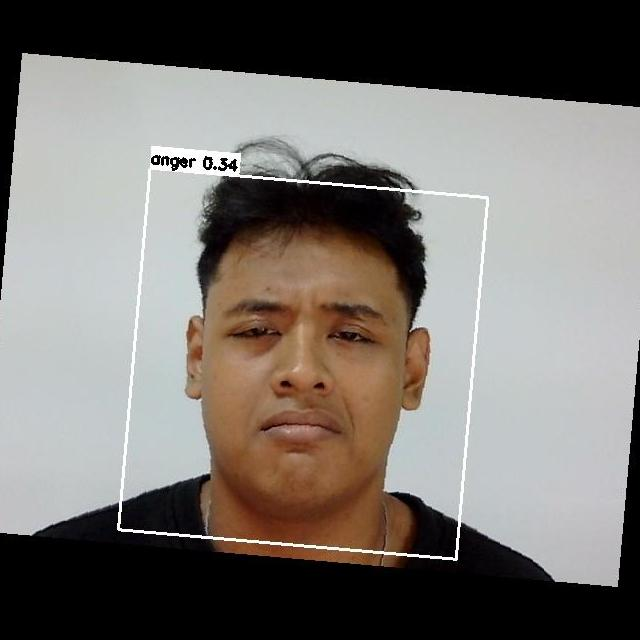Sad: (205, 275, 404, 487)
